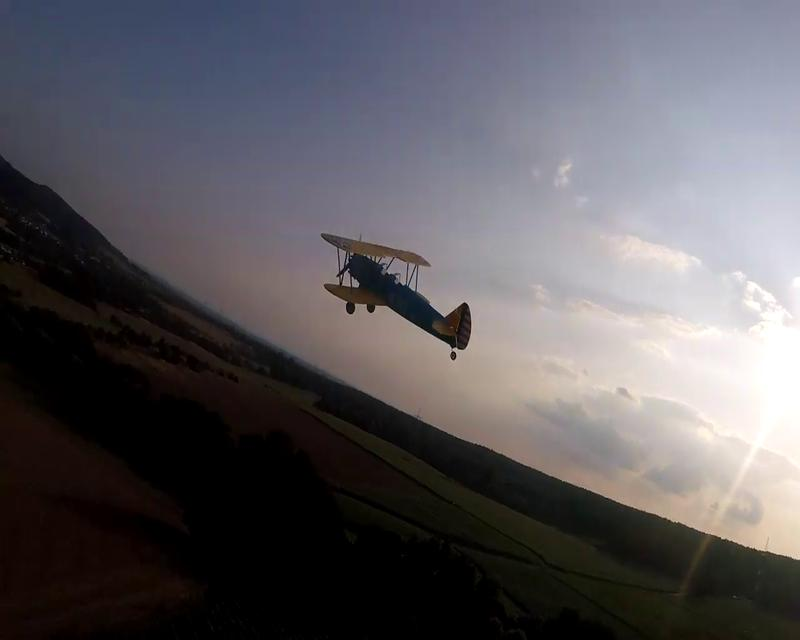UAV: (318, 232, 472, 362)
